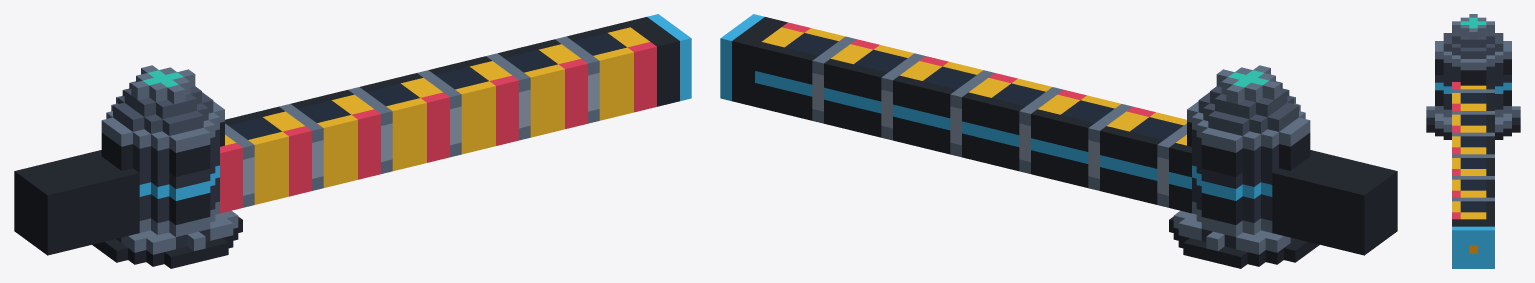
The model's file is Wipeout_Sweeper.glb.
3 views of the same model, side by side, from view 1: azimuth 30°, elevation 25°; view 2: azimuth 150°, elevation 25°; view 3: azimuth 270°, elevation 25° (orthographic). The views are drawn at different scales.
Parts seen in each view (by area): view 1: arm, hub; view 2: arm, hub; view 3: arm, hub.
Boxes of the visible parts, bbox=[...] form: arm: bbox=[14, 14, 691, 255]; hub: bbox=[92, 65, 242, 268]; arm: bbox=[720, 14, 1397, 255]; hub: bbox=[1169, 65, 1319, 268]; arm: bbox=[1452, 82, 1494, 268]; hub: bbox=[1426, 14, 1520, 139].
Bounding box in the file's own units: 56 × 13 × 11.
